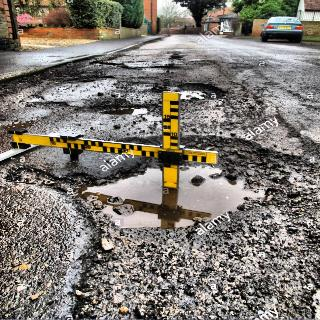pothole: (16, 136, 320, 320), (155, 80, 220, 104), (84, 100, 158, 118)
